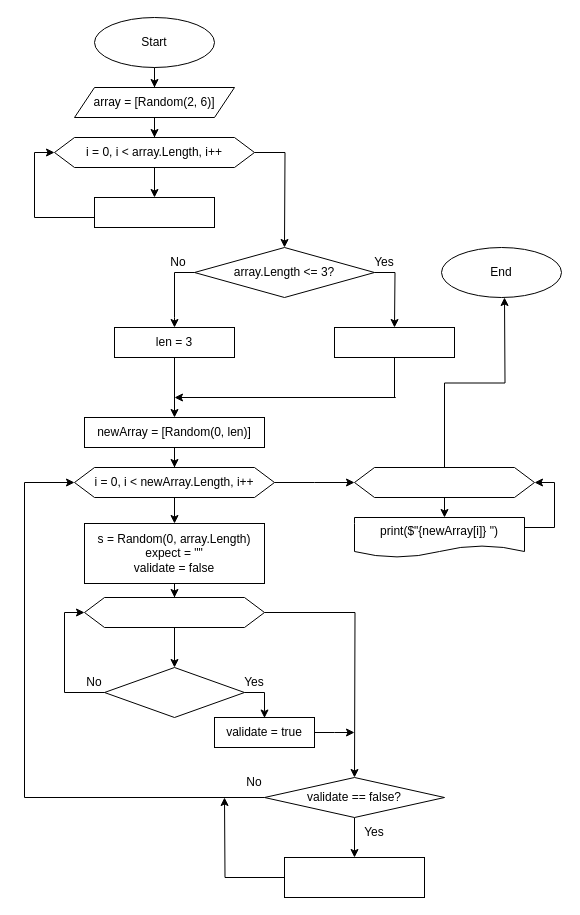
Image size: 580x915. Some labels were removed from this diagram. The shapes that lost their labels are listed below. From the top down, each one's centre as x and y in pixels, then its label:
At point 154,212: "array[i] = input".
At point 394,342: "len = array.Length".
At point 444,482: "i = 0; i < newArray.Length; i++".
At point 174,612: "j = 0; j < expect.Length; j++".
At point 174,692: "expect[j] == s?".
At point 354,877: "newArray[i] = array[s] expect += s".
